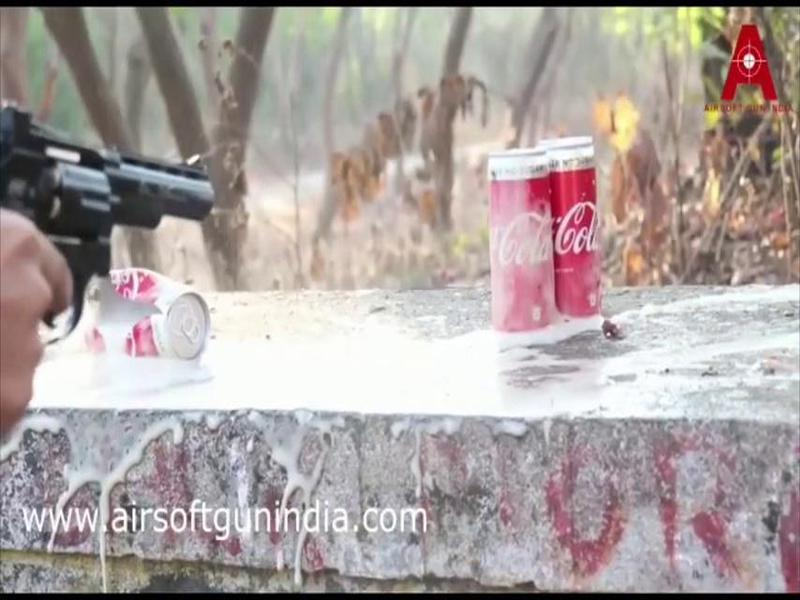Revolver: (1, 94, 229, 347)
